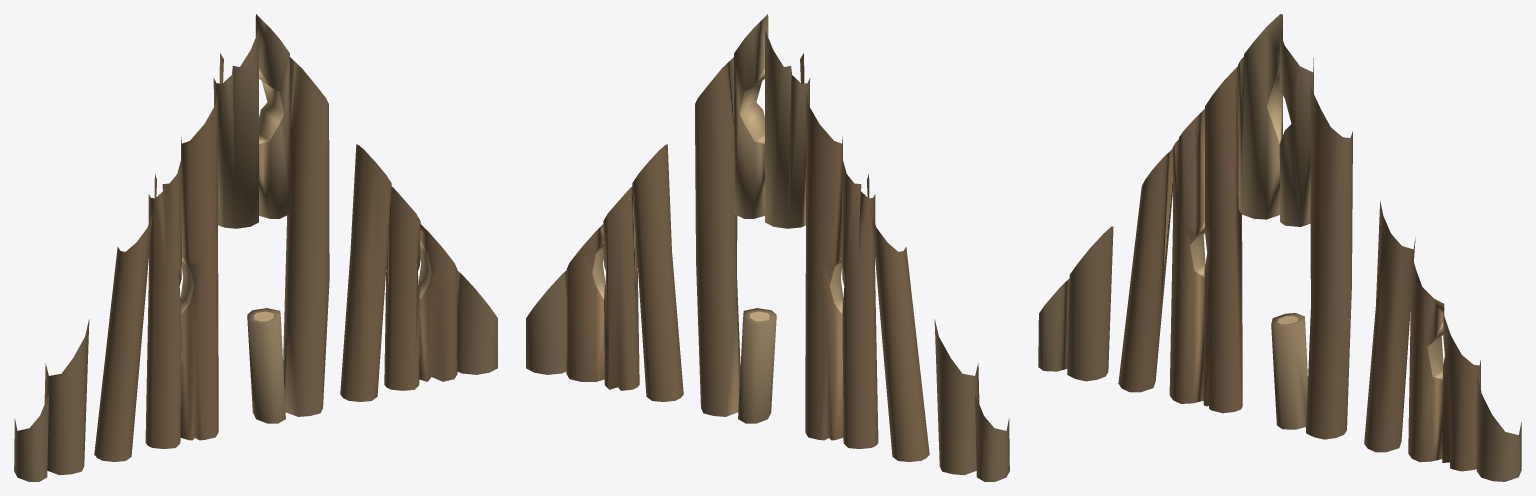
File: rpgpp_av_roof_end_01_6x5_wall_window_04c.gltf
3 renders of one model, left to right at view 1: azimuth 30°, elevation 25°; view 2: azimuth 150°, elevation 25°; view 3: azimuth 330°, elevation 25°, orthographic.
Visible parts, largest first — view 1: rpgpp_av_roof_end_01_6x5_wall_window_04c; view 2: rpgpp_av_roof_end_01_6x5_wall_window_04c; view 3: rpgpp_av_roof_end_01_6x5_wall_window_04c.
Boxes of the visible parts, bbox=[...] form: rpgpp_av_roof_end_01_6x5_wall_window_04c: bbox=[14, 14, 497, 481]; rpgpp_av_roof_end_01_6x5_wall_window_04c: bbox=[526, 14, 1009, 481]; rpgpp_av_roof_end_01_6x5_wall_window_04c: bbox=[1038, 14, 1521, 481].
Bounding box in the file's own units: 0.06 × 0.0487 × 0.00463.
Materials: 1 (1 with a texture image).
